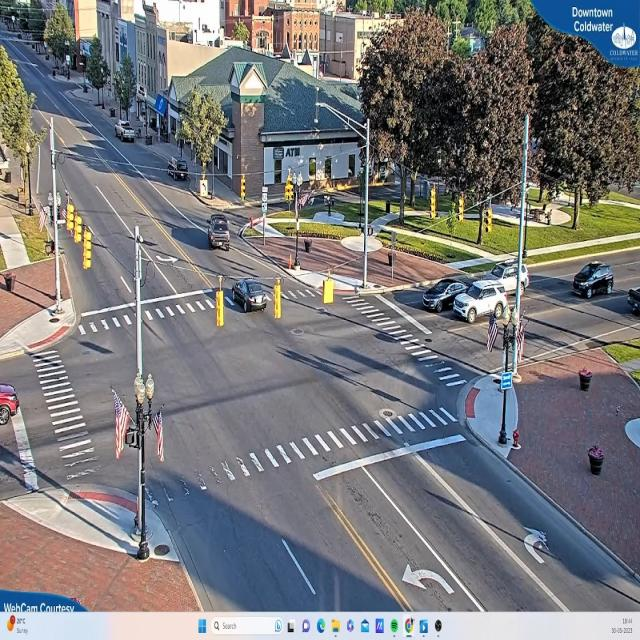car: (453, 285, 509, 324), (422, 279, 478, 312), (476, 264, 530, 296), (574, 263, 615, 302), (230, 280, 269, 314), (207, 208, 230, 248), (0, 384, 22, 424), (117, 120, 138, 142)
